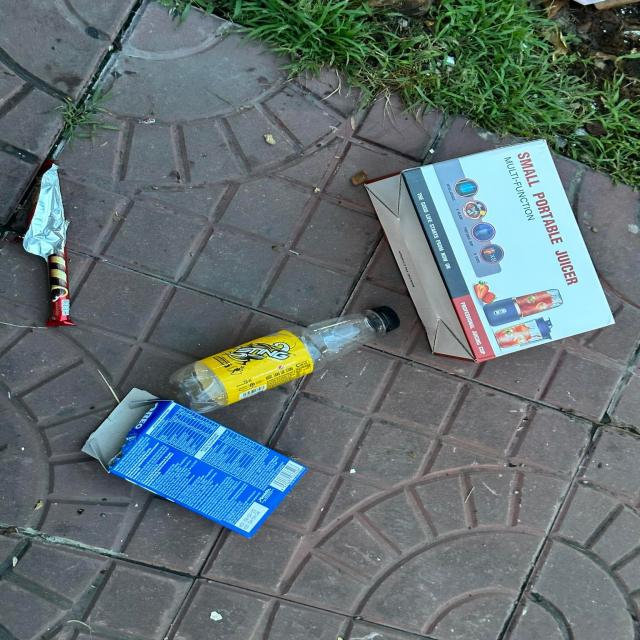bottle: (173, 306, 401, 414)
cardboard box: (364, 139, 616, 363), (81, 387, 308, 539)
packet: (23, 159, 77, 327)
